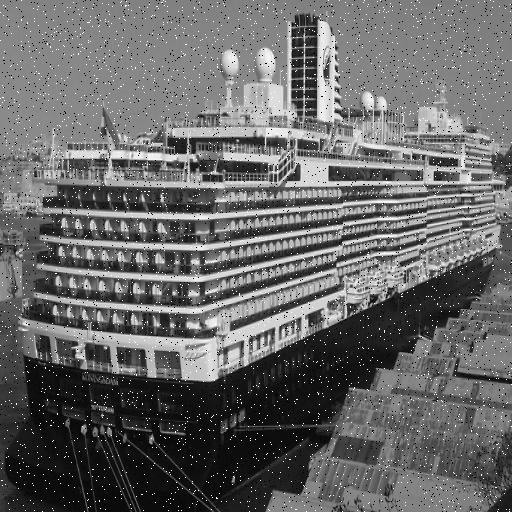cruises: (12, 6, 505, 510)
